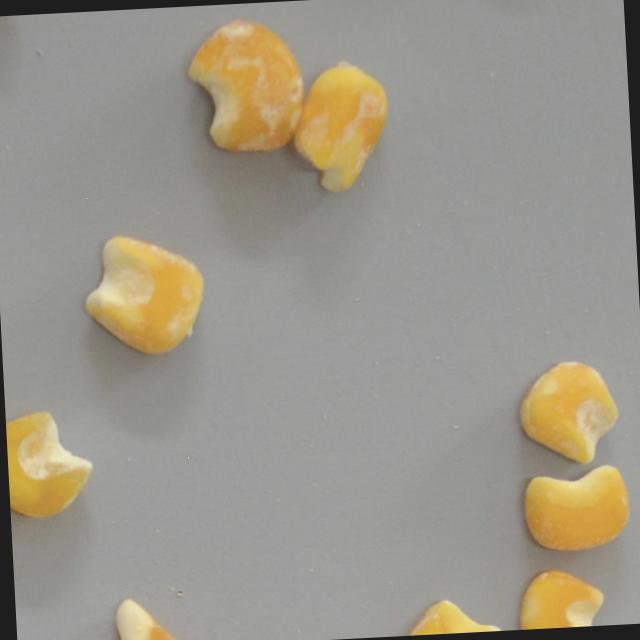no_canjicado: (4, 409, 95, 520), (63, 596, 197, 640), (516, 569, 605, 630)
pelicula: (183, 20, 307, 156), (81, 232, 208, 359), (289, 61, 392, 195), (517, 358, 622, 469), (522, 462, 631, 556), (395, 596, 504, 636)
